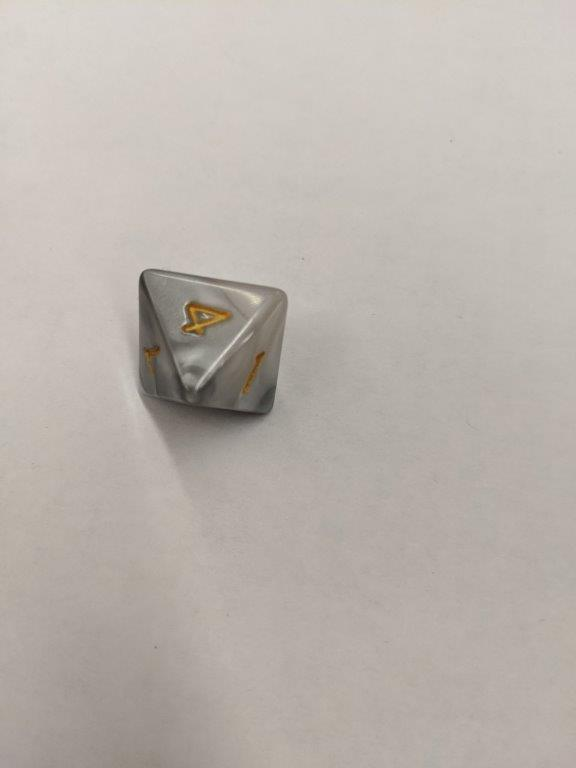d8-4: (135, 268, 288, 419)
